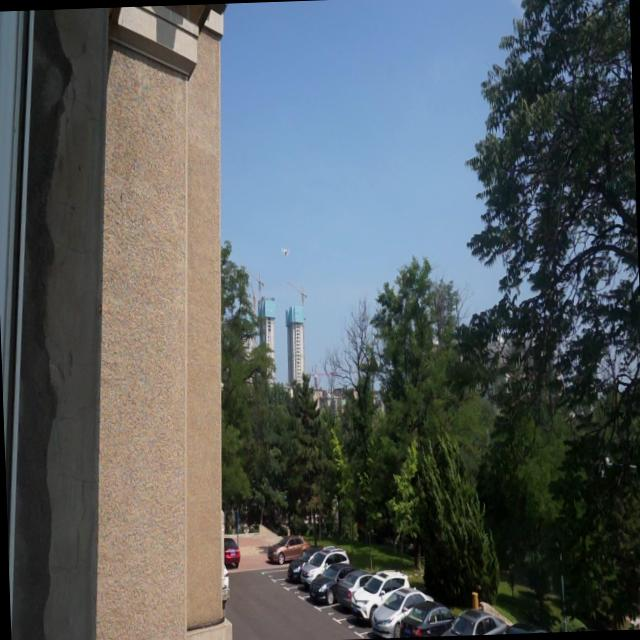drone: (278, 242, 290, 258)
